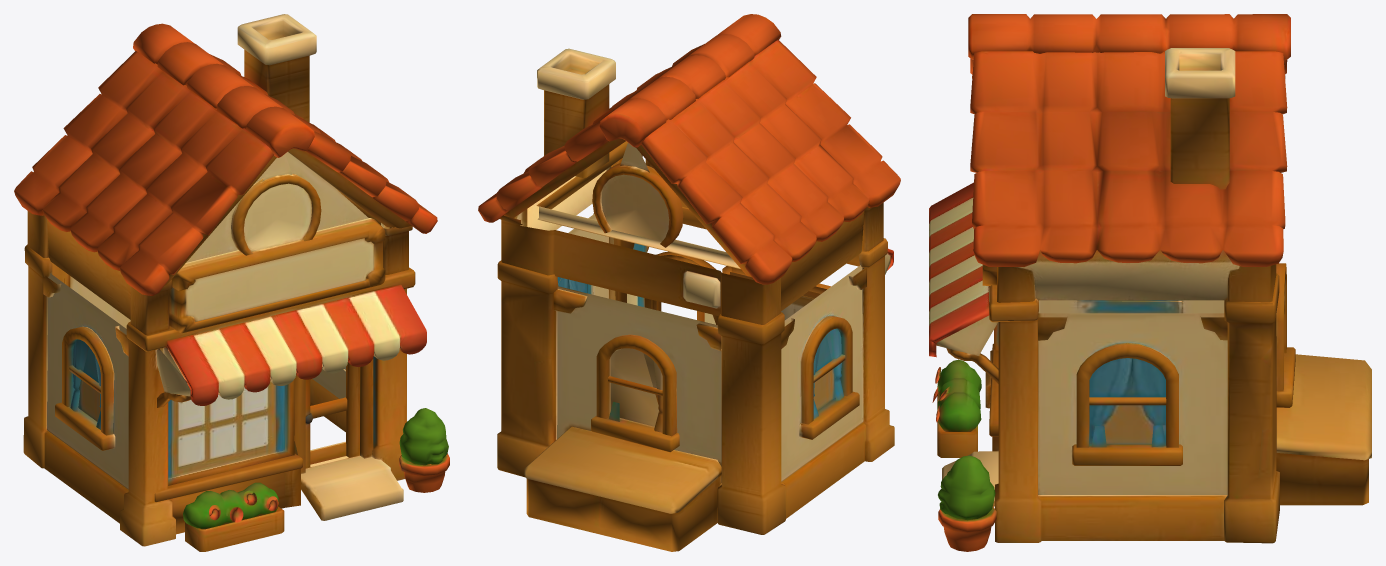
3 views of the same model, side by side, from view 1: azimuth 30°, elevation 25°; view 2: azimuth 150°, elevation 25°; view 3: azimuth 270°, elevation 25° (orthographic). The views are drawn at different scales.
Visible parts, largest first — view 1: shop-realestate; view 2: shop-realestate; view 3: shop-realestate.
Part boxes in pixels (left/top/right/bottom): shop-realestate: left=14, top=14, right=449, bottom=551; shop-realestate: left=478, top=14, right=900, bottom=551; shop-realestate: left=929, top=14, right=1371, bottom=551.
Bounding box in the file's own units: 7.3 × 9.18 × 8.07.
1 material, 1 textured.
